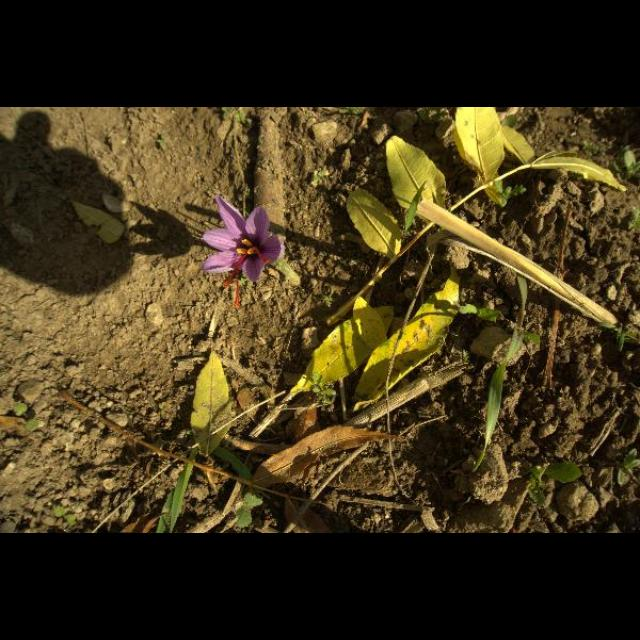flower: (203, 195, 283, 309)
